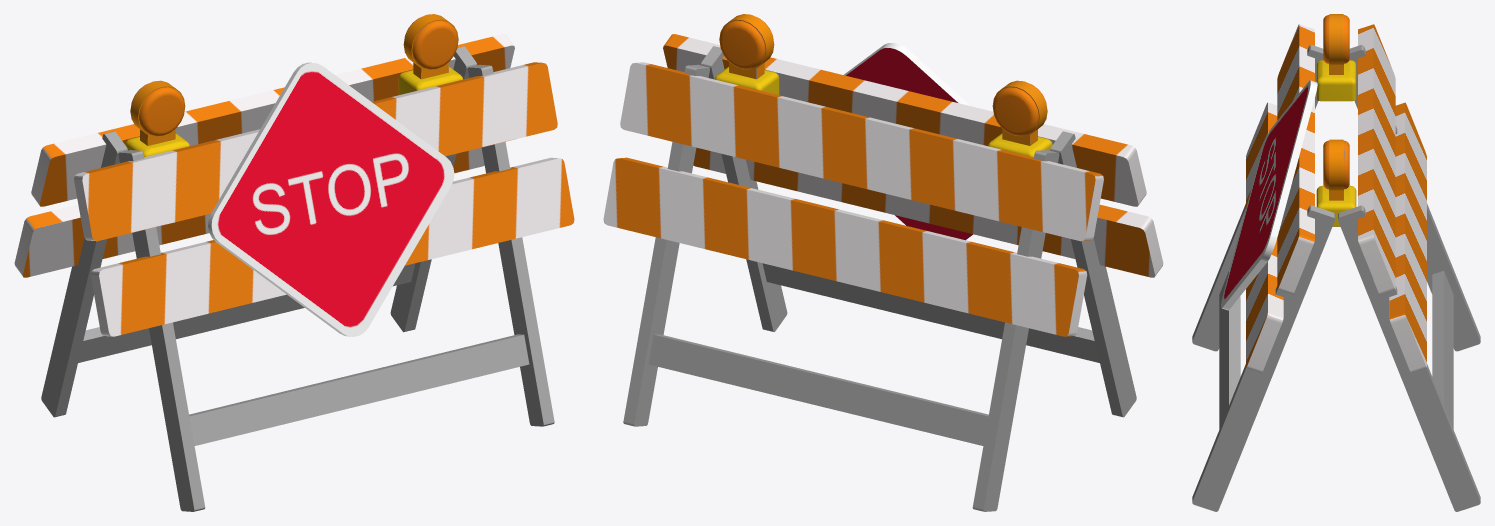
Rendered from stop.fbx.
The picture shows the model from 3 angles, left to right: view 1: azimuth 30°, elevation 25°; view 2: azimuth 150°, elevation 25°; view 3: azimuth 270°, elevation 25°; orthographic projection. The views are drawn at different scales.
Parts seen in each view (by area): view 1: Front_Part1, Back_Part, Light; view 2: Back_Part, Front_Part1, Light; view 3: Front_Part1, Back_Part, Light.
Part boxes in pixels (box(x1,y1,x2,y2)): Front_Part1: box(74, 62, 574, 511); Back_Part: box(14, 34, 514, 417); Light: box(125, 14, 463, 157); Back_Part: box(603, 62, 1103, 511); Front_Part1: box(663, 34, 1163, 417); Light: box(714, 14, 1052, 157); Front_Part1: box(1192, 24, 1334, 511); Back_Part: box(1338, 24, 1480, 511); Light: box(1316, 14, 1356, 226).
Bounding box in the file's own units: 427 × 325 × 243.
Materials: 1 (1 with a texture image).
